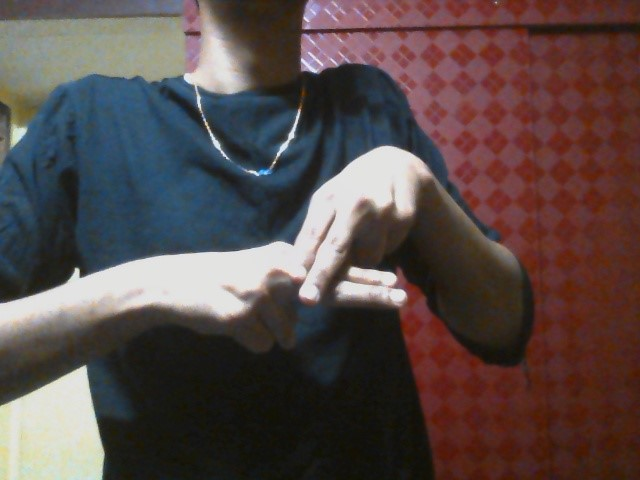F: (186, 151, 416, 356)
